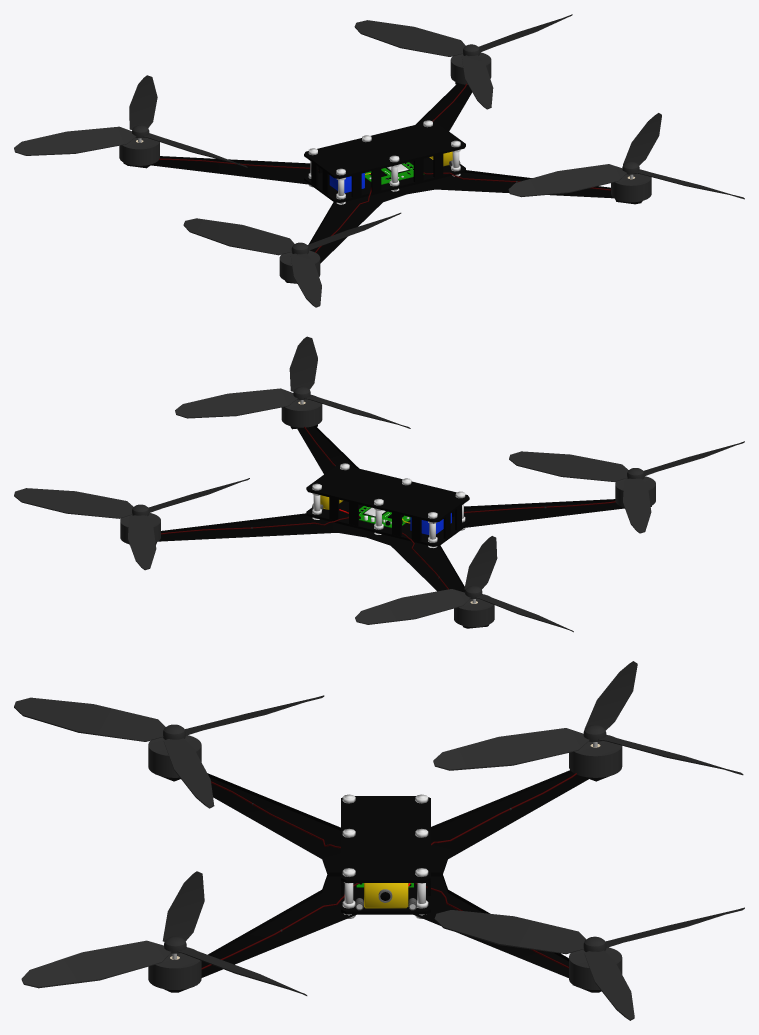
Rendered from fpv_drone.glb.
3 renders of one model, top to bottom at view 1: azimuth 30°, elevation 25°; view 2: azimuth 150°, elevation 25°; view 3: azimuth 270°, elevation 25°, orthographic. The views are drawn at different scales.
Visible parts, largest first — view 1: Object_25, Object_12, Object_27, Object_28, Object_14, Object_13; view 2: Object_25, Object_12, Object_27, Object_28, Object_13, Object_14; view 3: Object_25, Object_12, Object_27, Object_28, Object_2, Object_14, Object_13.
Part boxes in pixels (x1,y1,x2,y2): Object_25: [14, 14, 744, 307]; Object_12: [123, 82, 642, 283]; Object_27: [119, 52, 651, 282]; Object_28: [159, 83, 610, 252]; Object_14: [308, 120, 460, 204]; Object_13: [310, 120, 459, 203]; Object_25: [14, 336, 744, 632]; Object_12: [155, 424, 651, 628]; Object_27: [120, 394, 655, 627]; Object_28: [161, 426, 615, 589]; Object_13: [313, 463, 463, 547]; Object_14: [312, 463, 465, 547]; Object_25: [14, 661, 744, 1020]; Object_12: [161, 770, 608, 992]; Object_27: [148, 734, 622, 989]; Object_28: [201, 773, 576, 969]; Object_2: [364, 883, 408, 908]; Object_14: [342, 795, 428, 918]; Object_13: [344, 794, 425, 918].
Size of the model in its own units: 13.4 by 0.8466 by 11.62.
